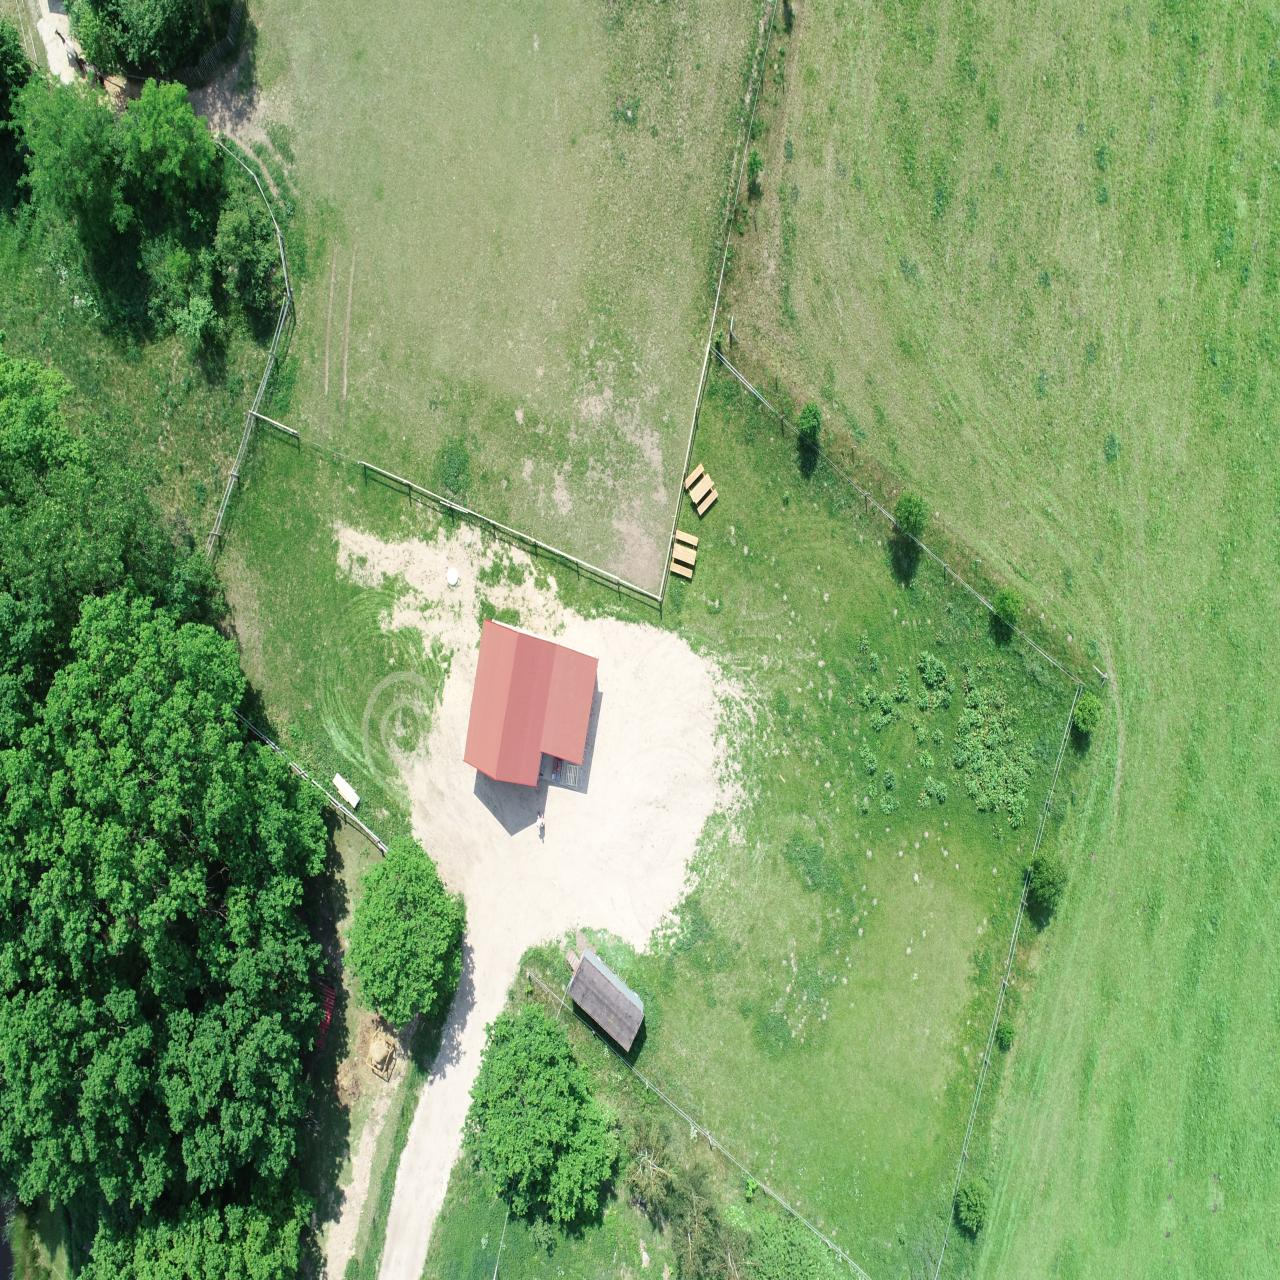cow: (1211, 610, 1265, 689)
